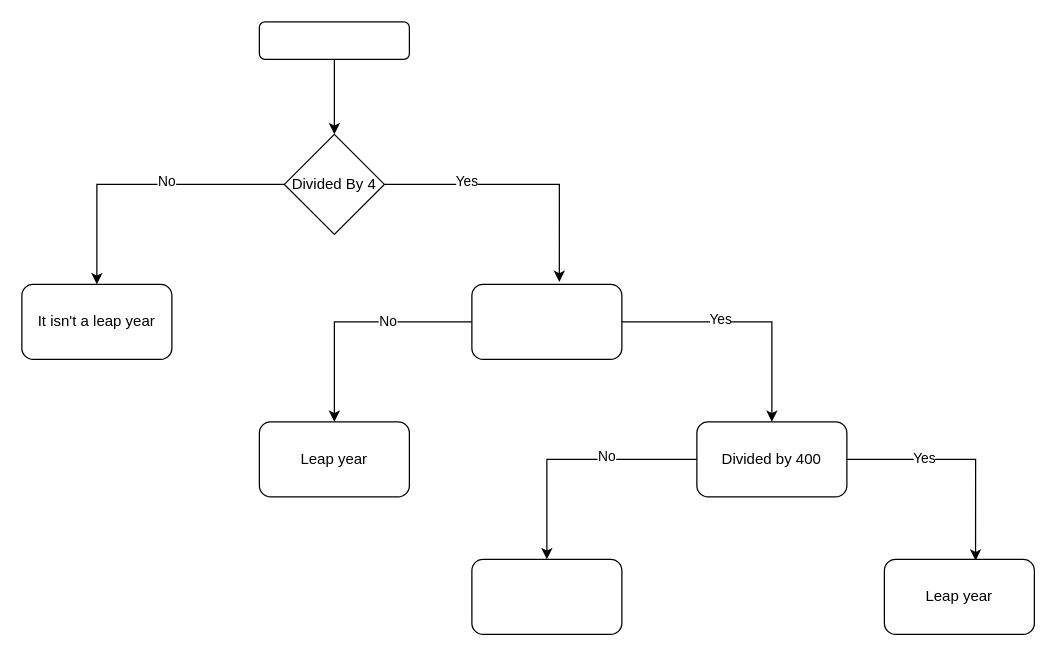
Image size: 1056x656. Some labels were removed from this diagram. Here are the shapes that lost their labels. From the top down, the centre of each, then its label:
At point 333,40: "Start".
At point 546,321: "Divided By 100".
At point 546,596: "Not leap".
